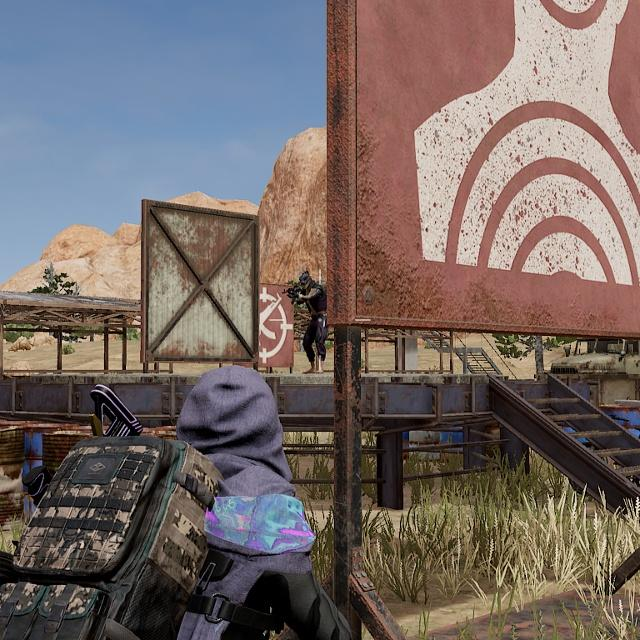head: (292, 265, 320, 295)
people: (282, 263, 333, 376)
